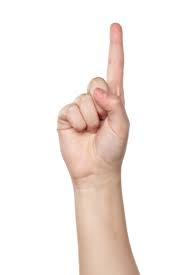move: (57, 23, 130, 176)
